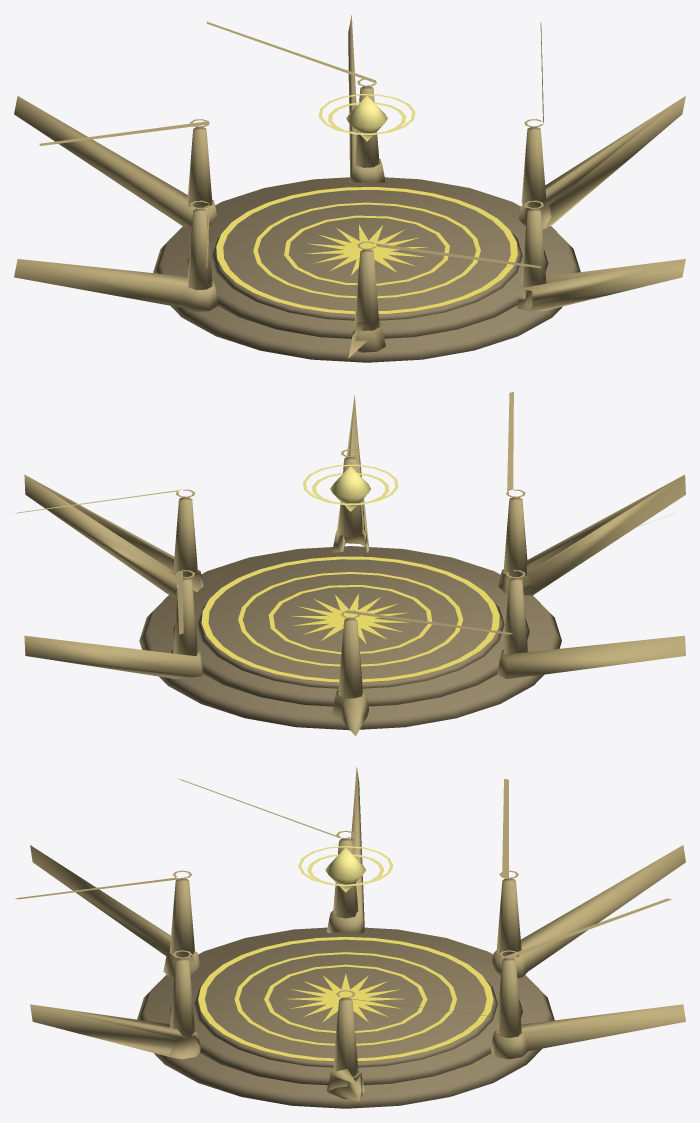
Rendered from Sanctum_Tier6_Solar_Combined.fbx.
The picture shows the model from 3 angles, top to bottom: view 1: azimuth 30°, elevation 25°; view 2: azimuth 150°, elevation 25°; view 3: azimuth 270°, elevation 25°; orthographic projection. The views are drawn at different scales.
Visible parts, largest first — view 1: Sanctum_Tier6_Solar_Combined; view 2: Sanctum_Tier6_Solar_Combined; view 3: Sanctum_Tier6_Solar_Combined.
Boxes of the visible parts, x1,y1,x2,y2 form: Sanctum_Tier6_Solar_Combined: (14, 15, 685, 362); Sanctum_Tier6_Solar_Combined: (15, 391, 685, 736); Sanctum_Tier6_Solar_Combined: (14, 766, 685, 1108).
Bounding box in the file's own units: 16.66 × 4.2 × 14.79.
